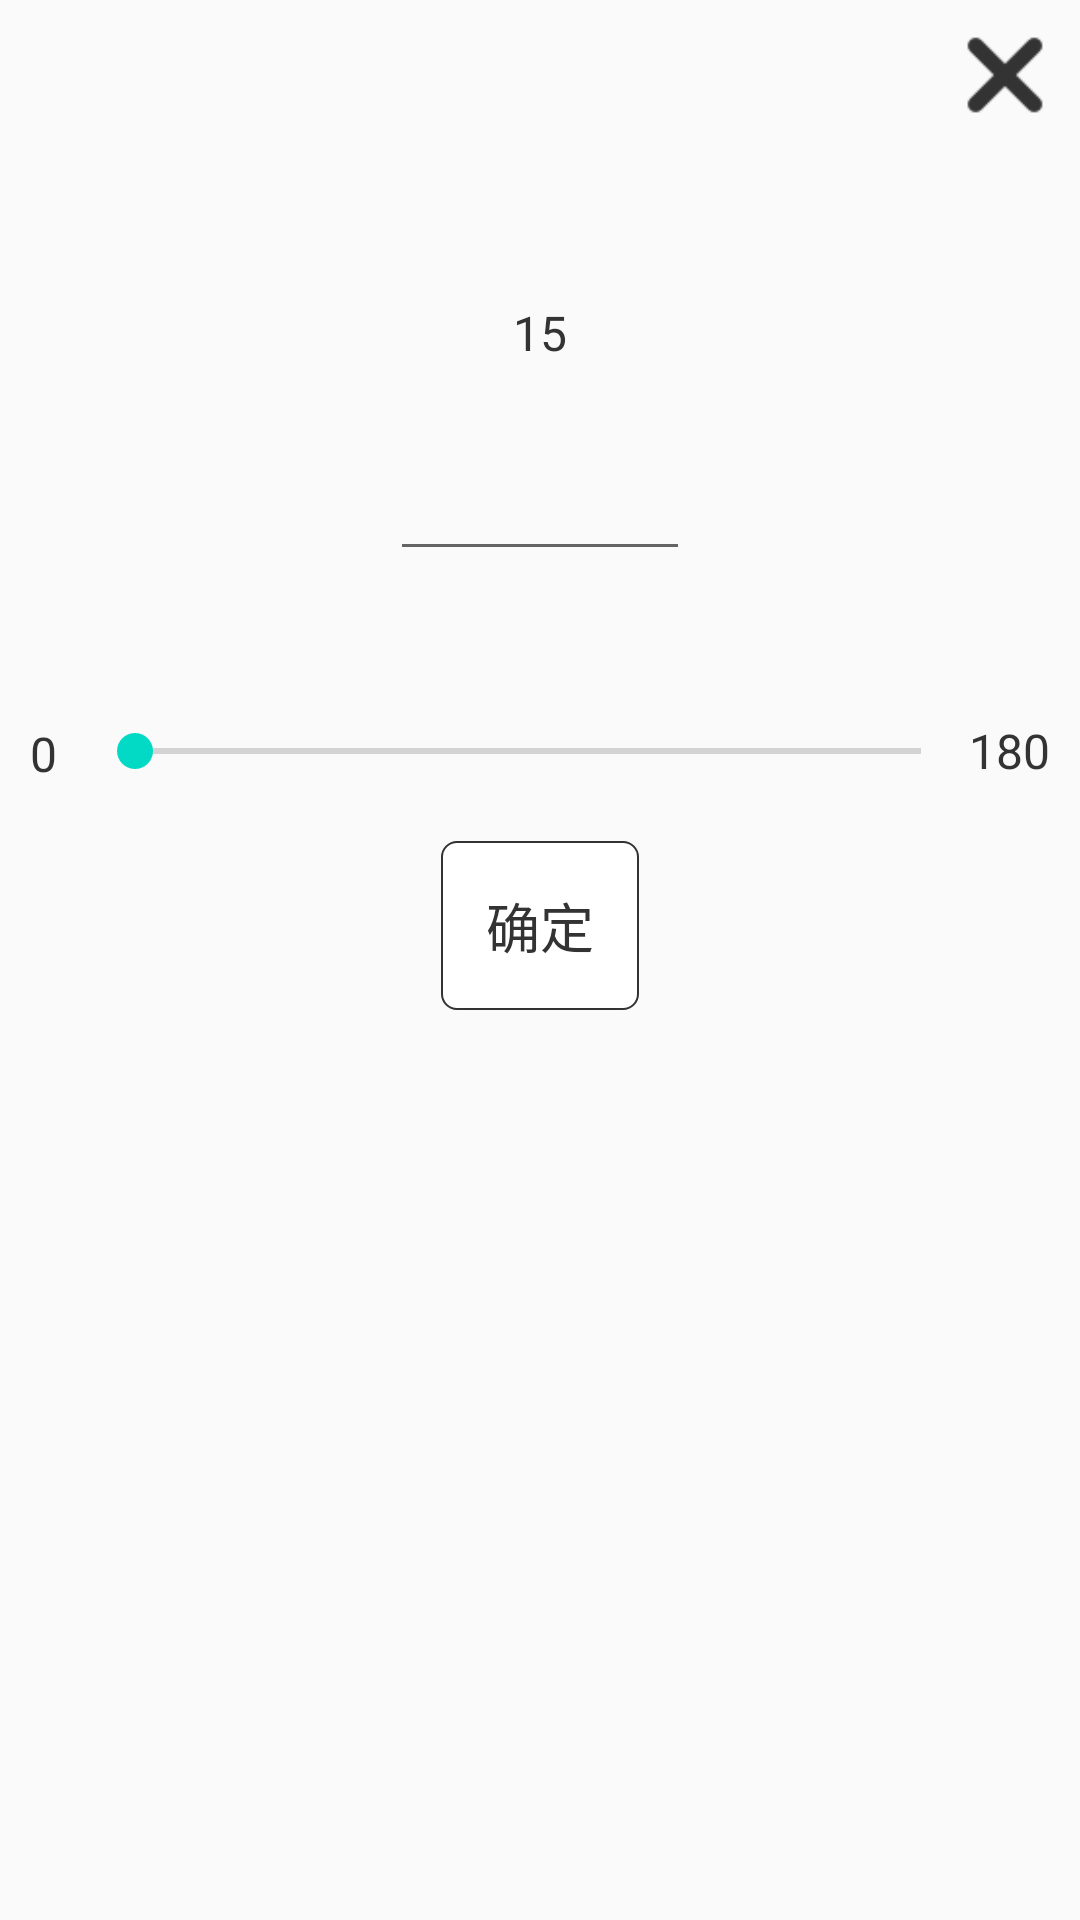

Where icons sit on this 1080px x 1920px app screen, as bbox=(x1, y1, x2, y2):
close: bbox=(967, 37, 1043, 113)
